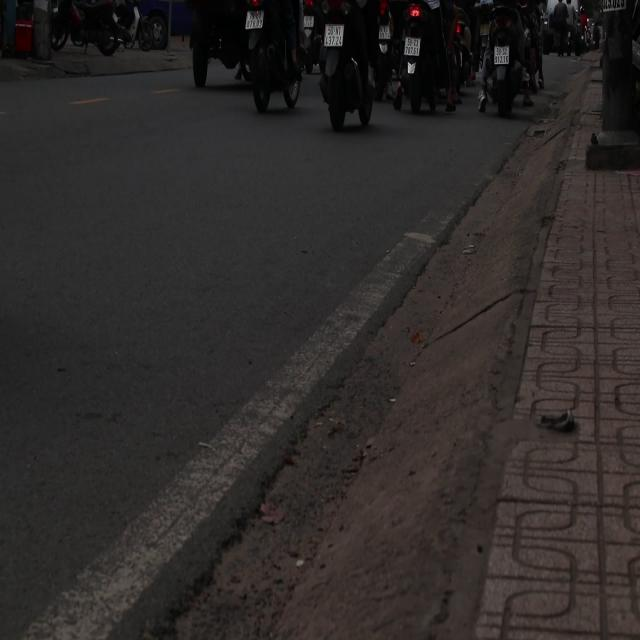motorbike: (180, 1, 296, 92), (312, 1, 380, 131), (389, 0, 455, 113), (243, 1, 308, 112), (484, 0, 526, 139), (439, 1, 475, 108)
